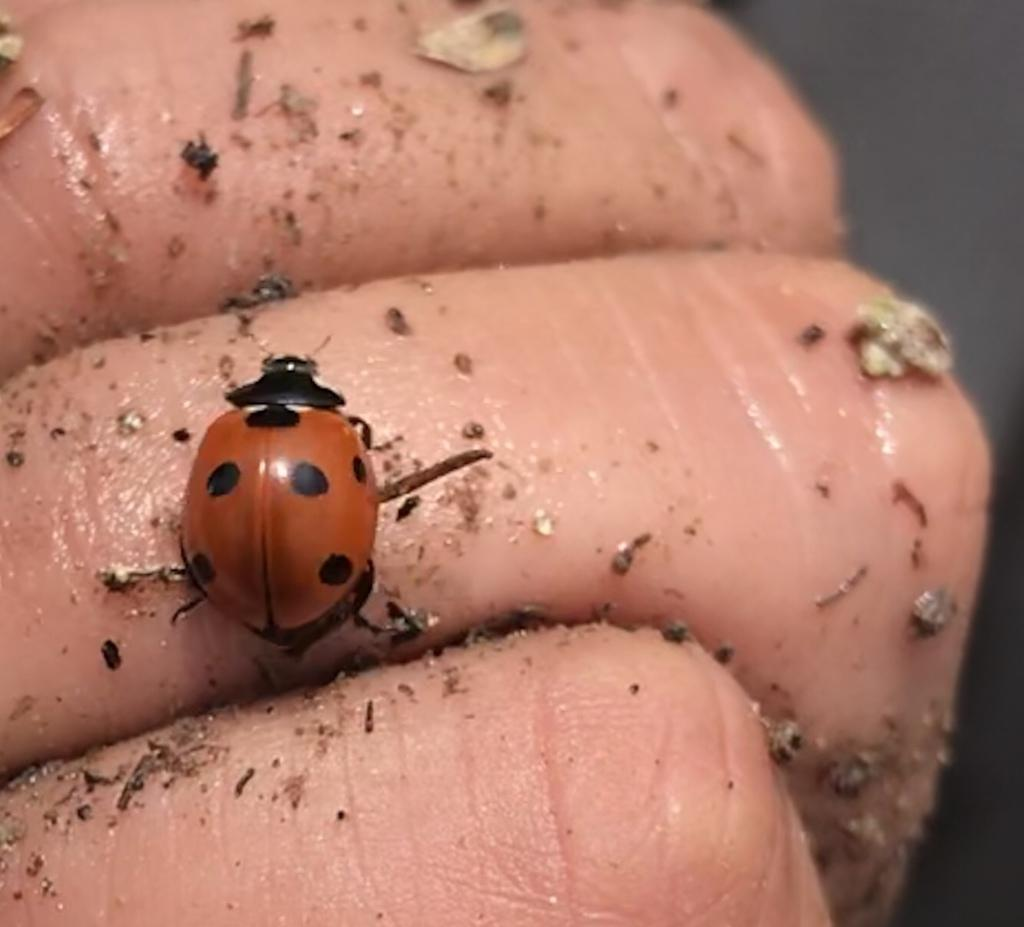ladybug: (161, 331, 409, 651)
